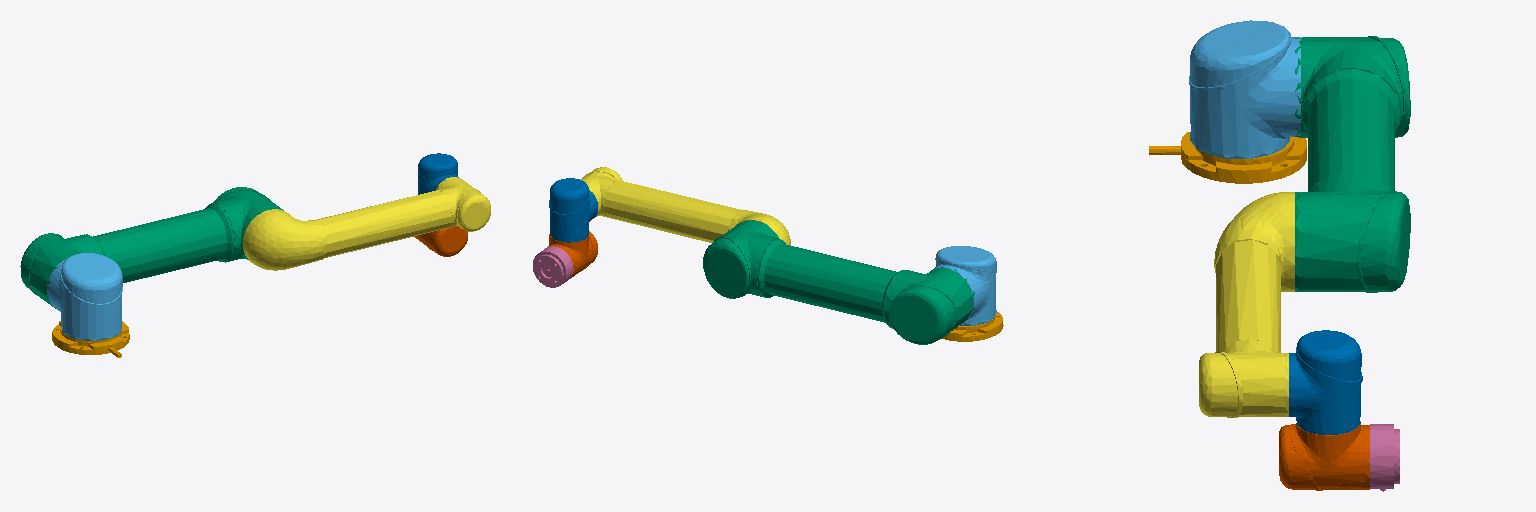
robot.urdf — UR5:
<?xml version="1.0"?>
<robot name="UR5">
  <link name="base_link">
    <visual>
      <origin xyz="0.000087 0.004519 0.003002" rpy="0 0 0"/>
      <geometry>
        <mesh filename="stl_files/base.stl" scale="0.001 0.001 0.001"/>
      </geometry>
    </visual>
  </link>
  <link name="link_1">
    <visual>
      <origin xyz="0.000000 0.000000 0.000043" rpy="0 0 0"/>
      <geometry>
        <mesh filename="stl_files/shoulder.stl" scale="0.001 0.001 0.001"/>
      </geometry>
    </visual>
  </link>
  <link name="link_2">
    <visual>
      <origin xyz="0.000000 -0.006500 0.000000" rpy="0 0 0"/>
      <geometry>
        <mesh filename="stl_files/upperarm.stl" scale="0.001 0.001 0.001"/>
      </geometry>
    </visual>
  </link>
  <link name="link_3">
    <visual>
      <origin xyz="0.000000 -0.006499 0.000000" rpy="0 0 0"/>
      <geometry>
        <mesh filename="stl_files/forearm.stl" scale="0.001 0.001 0.001"/>
      </geometry>
    </visual>
  </link>
  <link name="link_4">
    <visual>
      <origin xyz="0.000000 -0.006498 0.000000" rpy="0 0 0"/>
      <geometry>
        <mesh filename="stl_files/wrist1.stl" scale="0.001 0.001 0.001"/>
      </geometry>
    </visual>
  </link>
  <link name="link_5">
    <visual>
      <origin xyz="0.000000 0.000000 -0.049150" rpy="0 0 0"/>
      <geometry>
        <mesh filename="stl_files/wrist2.stl" scale="0.001 0.001 0.001"/>
      </geometry>
    </visual>
  </link>
  <link name="link_6">
    <visual>
      <origin xyz="0.000000 -0.047325 0.000000" rpy="0 0 0"/>
      <geometry>
        <mesh filename="stl_files/wrist3.stl" scale="0.001 0.001 0.001"/>
      </geometry>
    </visual>
  </link>
  <joint name="joint_1" type="revolute">
    <parent link="base_link"/>
    <child link="link_1"/>
    <origin xyz="0.000000 0.000000 0.089159" rpy="0 0 0"/>
    <axis xyz="0.000000 0.000000 1.000000"/>
    <limit lower="-6.2832" upper="6.2832" effort="100" velocity="1"/>
  </joint>
  <joint name="joint_2" type="revolute">
    <parent link="link_1"/>
    <child link="link_2"/>
    <origin xyz="0.000000 0.135850 0.000000" rpy="0.000000 1.570796 0.000000"/>
    <axis xyz="0.000000 1.000000 0.000000"/>
    <limit lower="-6.2832" upper="6.2832" effort="100" velocity="1"/>
  </joint>
  <joint name="joint_3" type="revolute">
    <parent link="link_2"/>
    <child link="link_3"/>
    <origin xyz="0.000000 -0.119700 0.425000" rpy="0 0 0"/>
    <axis xyz="0.000000 1.000000 0.000000"/>
    <limit lower="-6.2832" upper="6.2832" effort="100" velocity="1"/>
  </joint>
  <joint name="joint_4" type="revolute">
    <parent link="link_3"/>
    <child link="link_4"/>
    <origin xyz="0.000000 0.000000 0.392250" rpy="0.000000 1.570796 0.000000"/>
    <axis xyz="0.000000 1.000000 0.000000"/>
    <limit lower="-6.2832" upper="6.2832" effort="100" velocity="1"/>
  </joint>
  <joint name="joint_5" type="revolute">
    <parent link="link_4"/>
    <child link="link_5"/>
    <origin xyz="-0.001095 0.086609 0.046972" rpy="0 0 0"/>
    <axis xyz="0.000000 0.000000 1.000000"/>
    <limit lower="-6.2832" upper="6.2832" effort="100" velocity="1"/>
  </joint>
  <joint name="joint_6" type="revolute">
    <parent link="link_5"/>
    <child link="link_6"/>
    <origin xyz="0.000483 0.048289 0.044500" rpy="0 0 0"/>
    <axis xyz="0.000000 1.000000 0.000000"/>
    <limit lower="-6.2832" upper="6.2832" effort="100" velocity="1"/>
  </joint>
</robot>

--- Facts derived from the render (not from the file) ---
3 views of the same robot in one strip: view 1: azimuth 30°, elevation 25°; view 2: azimuth 150°, elevation 25°; view 3: azimuth 270°, elevation 25° (orthographic).
Robot: UR5 — 7 links, 6 joints (6 revolute); root link base_link; default pose: all joints at 0.
Links seen in each view (by area): view 1: link_2, link_3, link_1, base_link, link_4, link_5; view 2: link_2, link_3, link_1, link_4, link_6, link_5, base_link; view 3: link_2, link_3, link_1, link_4, link_5, base_link, link_6.
Link boxes in pixels (<box>): link_2: <box>20,187,283,308</box>; link_3: <box>243,177,490,270</box>; link_1: <box>47,253,122,340</box>; base_link: <box>52,321,129,357</box>; link_4: <box>418,153,458,194</box>; link_5: <box>414,226,467,256</box>; link_2: <box>703,220,974,344</box>; link_3: <box>581,167,790,245</box>; link_1: <box>934,246,996,325</box>; link_4: <box>549,178,597,242</box>; link_6: <box>533,246,573,287</box>; link_5: <box>548,231,597,281</box>; base_link: <box>942,312,1003,341</box>; link_2: <box>1295,36,1410,292</box>; link_3: <box>1199,192,1294,417</box>; link_1: <box>1189,20,1300,158</box>; link_4: <box>1289,330,1362,434</box>; link_5: <box>1279,421,1369,490</box>; base_link: <box>1149,132,1306,183</box>; link_6: <box>1370,424,1399,491</box>.
Size in the robot's own frame: 0.9307 by 0.3034 by 0.203 metres.
7 mesh visuals loaded from 7 distinct referenced files (7 binary STL).
